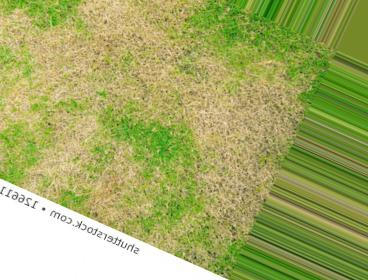patch: (10, 17, 171, 88), (172, 75, 269, 134), (41, 85, 91, 178), (208, 124, 256, 202), (101, 166, 135, 212)
